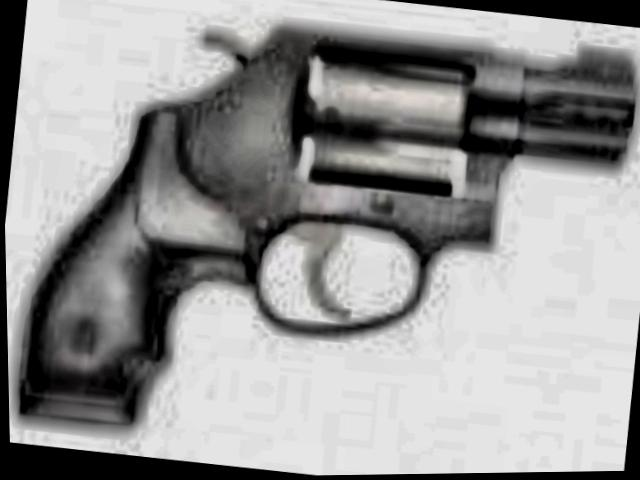pistol: (4, 0, 640, 480)
